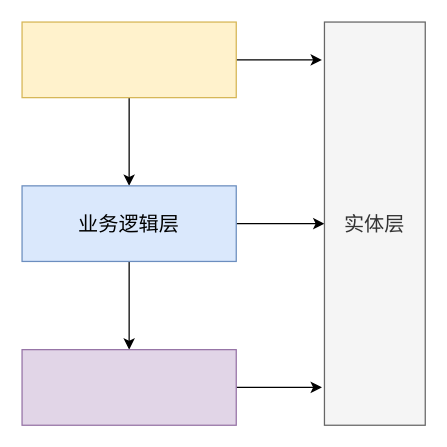
This 447x447 diagram has some shape labels left out. The shapes that lost their labels are listed below. From the top down, each one's centre as x and y in pixels, then its label:
At (128,59): "接口层".
At (128,386): "数据访问层".
